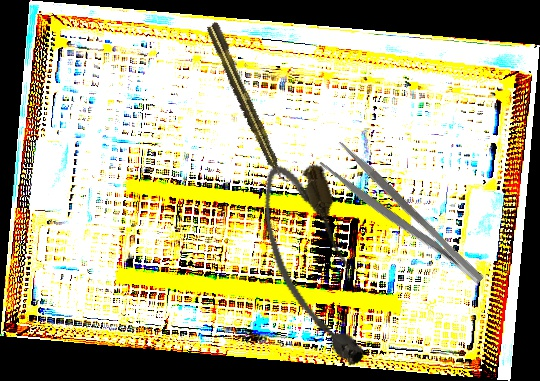Cannula: (248, 153, 380, 381)
Dressing Forceps: (318, 138, 488, 300)
Handpiece: (203, 20, 291, 188)
